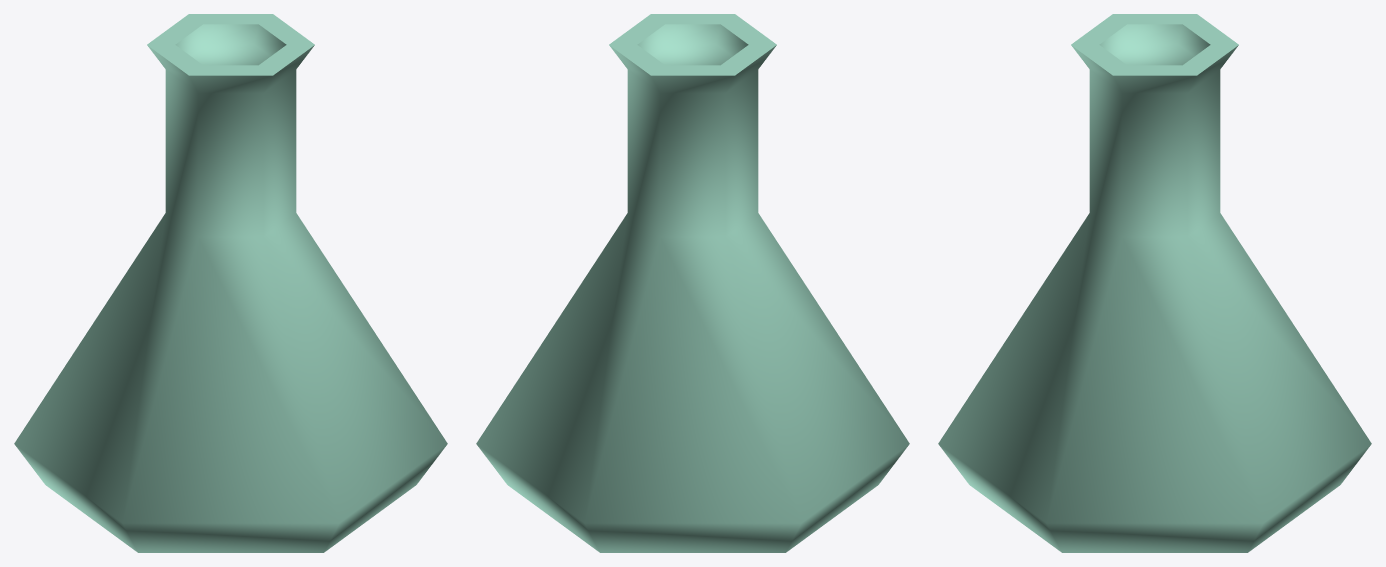
File: Lab_Erlenmeyer.glb
3 renders of one model, left to right at view 1: azimuth 30°, elevation 25°; view 2: azimuth 150°, elevation 25°; view 3: azimuth 270°, elevation 25°, orthographic.
Parts seen in each view (by area): view 1: Erlenmeyer; view 2: Erlenmeyer; view 3: Erlenmeyer.
Boxes of the visible parts, left/top/right/bottom form: Erlenmeyer: left=14, top=14, right=447, bottom=552; Erlenmeyer: left=476, top=14, right=909, bottom=552; Erlenmeyer: left=938, top=14, right=1371, bottom=552.
Bounding box in the file's own units: 0.276 × 0.3569 × 0.3186.
